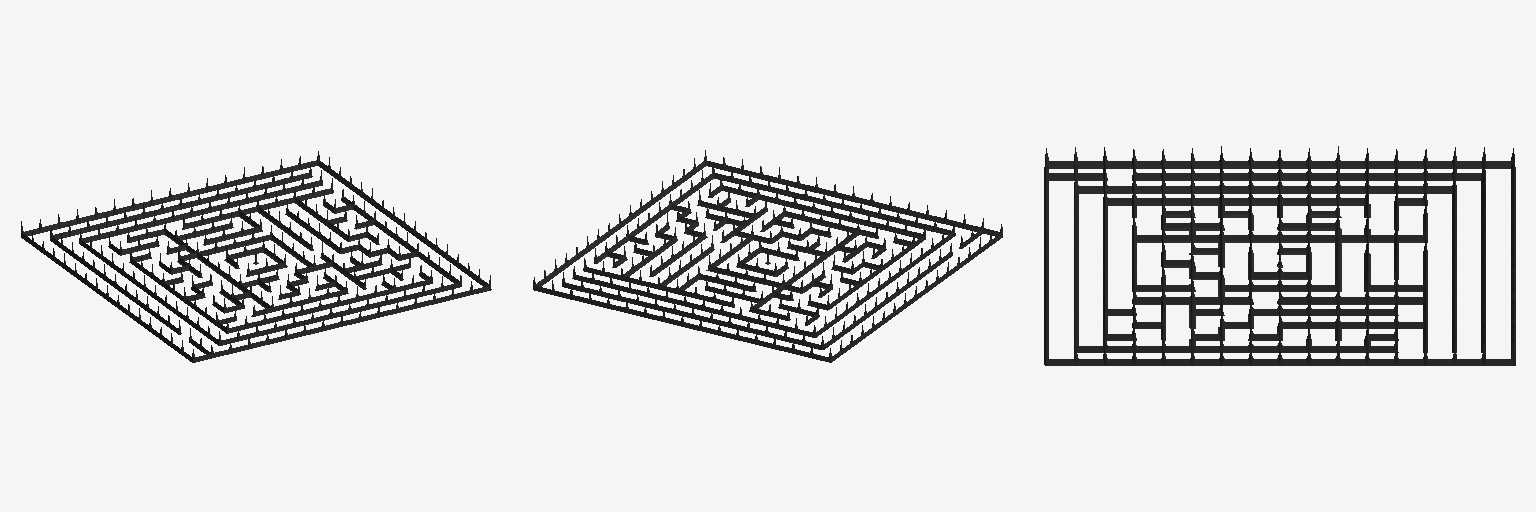
The robot description file, URDF, robot "2018apec":
<?xml version="1.0"?> 
<robot name="2018apec">

    <material name="black">
        <color rgba="0.2 0.2 0.2 0.95"/>
    </material>

    <link name="base_link">
        <visual>
            <origin xyz="0.0 0.0 0.0" rpy="0.0 0.0 0.0"/>
            <geometry>
                <mesh filename="meshes/2018apec.obj" scale="0.02 0.02 0.01" />
            </geometry>
          <material name="black"/>
        </visual>

        <collision concave="yes" name="collision_0">
           <origin xyz="0.0 0.0 0.0" rpy="0.0 0.0 0.0"/>
            <geometry>
                <mesh filename="meshes/2018apec.obj" scale="0.02 0.02 0.01" />
            </geometry>
        </collision>

        <inertial> 
            <mass value="0"/>
            <inertia ixx="0" ixy="0" ixz="0" iyy="0" iyz="0" izz="0"/>
        </inertial> 

    </link>
</robot>

--- What the picture shows (computed from the rendered views, not written in the file) ---
The picture shows the robot from 3 angles, left to right: view 1: azimuth 30°, elevation 25°; view 2: azimuth 150°, elevation 25°; view 3: azimuth 270°, elevation 25°; orthographic projection.
Robot: 2018apec — 1 links, 0 joints (none); root link base_link; default pose: every joint at zero.
Links seen in each view (by area): view 1: base_link; view 2: base_link; view 3: base_link.
Boxes of the visible links, x1,y1,x2,y2 form: base_link: (21,151,491,362); base_link: (533,150,1002,362); base_link: (1044,146,1515,365).
Size in the robot's own frame: 2.01 by 2.01 by 0.1 metres.
Meshes: 1 distinct files referenced, 1 mesh visuals loaded (1 OBJ).